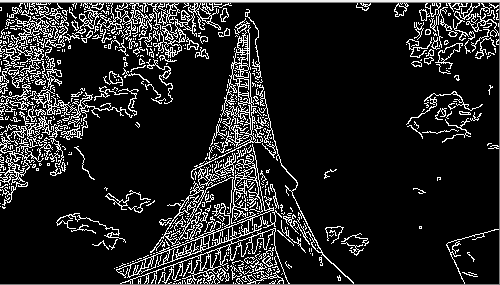eiffel tower: (117, 9, 353, 281)
